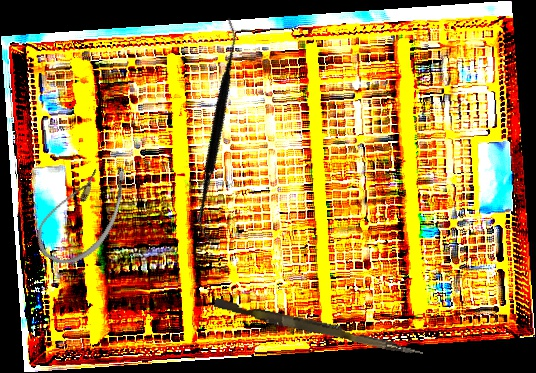Cannula: (27, 146, 140, 278)
Pusher: (212, 297, 426, 358)
Spatula Surgical: (129, 16, 308, 243)
